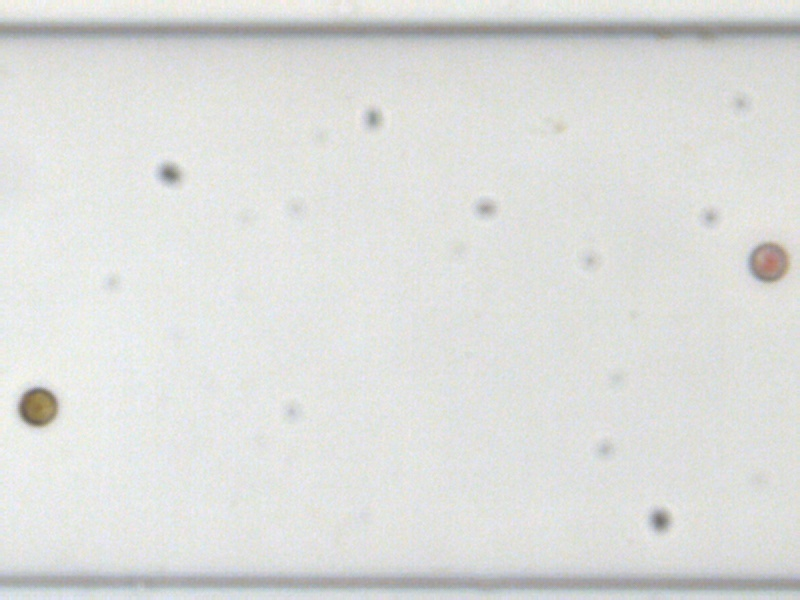Effrenium: (18, 387, 58, 427)
Porphyridium: (747, 243, 787, 284)
